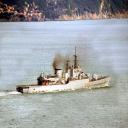Fragata: (17, 43, 114, 96)
